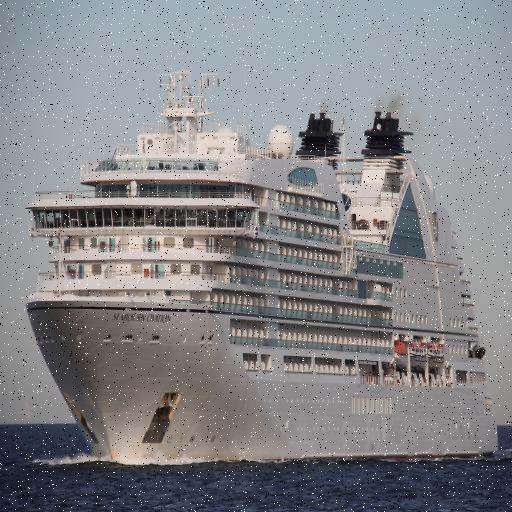cruises: (19, 65, 501, 476)
